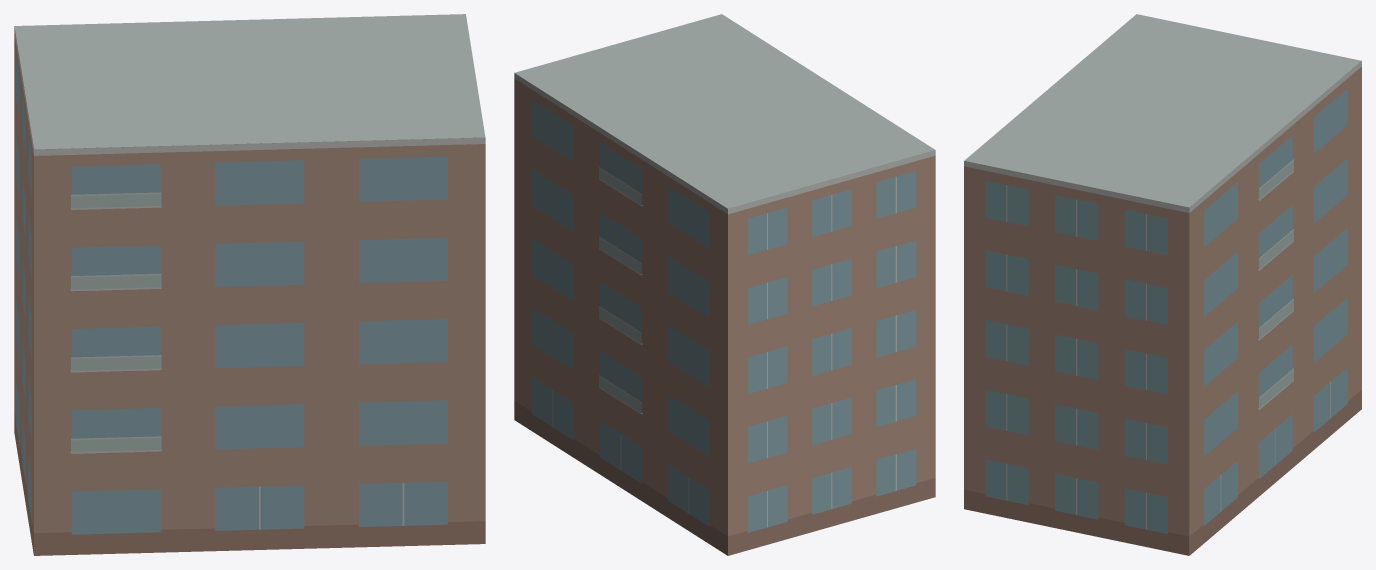
The model's file is survey-upis-32842949.glb.
The picture shows the model from 3 angles, left to right: view 1: azimuth 30°, elevation 25°; view 2: azimuth 150°, elevation 25°; view 3: azimuth 270°, elevation 25°; orthographic projection. The views are drawn at different scales.
Parts seen in each view (by area): view 1: survey-upis-32842949.tmp; view 2: survey-upis-32842949.tmp; view 3: survey-upis-32842949.tmp.
Boxes of the visible parts, <box> form: survey-upis-32842949.tmp: <box>14,14,485,555</box>; survey-upis-32842949.tmp: <box>514,14,935,555</box>; survey-upis-32842949.tmp: <box>964,14,1361,555</box>.
Bounding box in the file's own units: 18.18 × 15.25 × 15.79.
